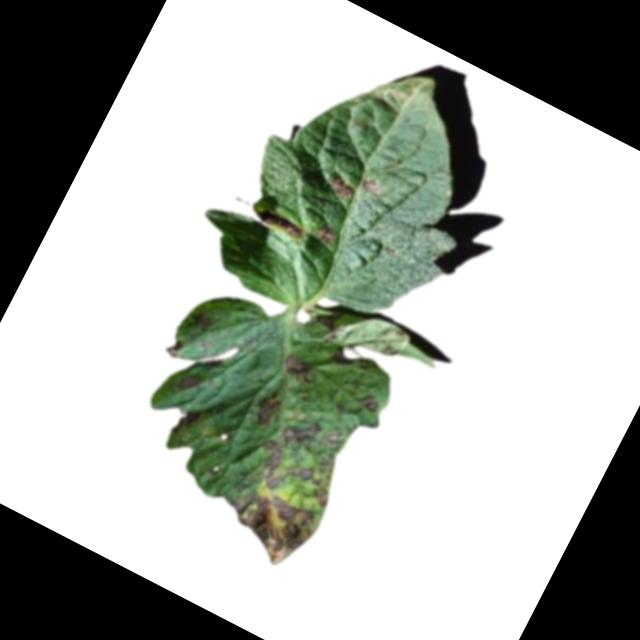Early_blight: (215, 476, 322, 573), (242, 432, 298, 492), (284, 461, 338, 509), (278, 406, 324, 452), (246, 380, 286, 427), (255, 205, 306, 241), (309, 303, 349, 345), (318, 169, 359, 207), (278, 350, 316, 387), (170, 364, 205, 399), (182, 307, 215, 338), (308, 216, 337, 247), (353, 387, 382, 414), (357, 173, 386, 199)
